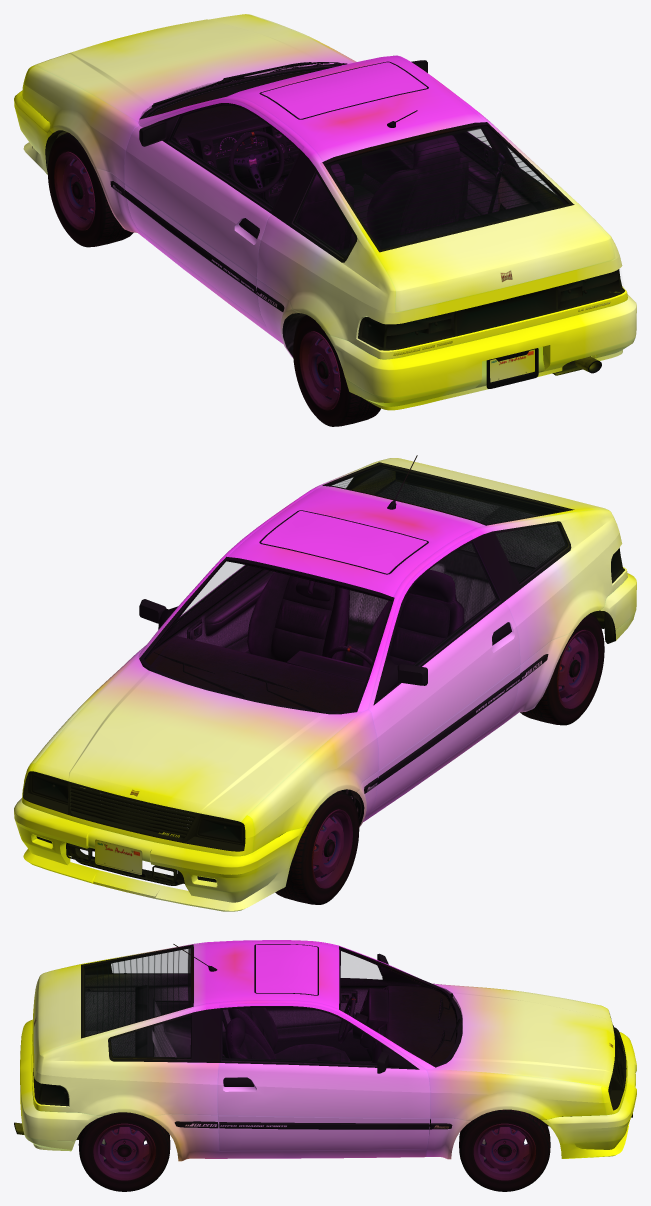
Rendered from blista2.glb.
The picture shows the model from 3 angles, top to bottom: view 1: azimuth 30°, elevation 25°; view 2: azimuth 150°, elevation 25°; view 3: azimuth 270°, elevation 25°; orthographic projection. The views are drawn at different scales.
Visible parts, largest first — view 1: bodyshell, windscreen_r, door_dside_f, boot, bonnet, bumper_r, chassis, misc_b, window_lf, wing_lf, wheel_lf, wheel_lr (+5 smaller); view 2: bodyshell, bonnet, door_dside_f, chassis, bumper_f, misc_b, extra_2, wing_lf, window_lf, wheel_lf, door_pside_f, windscreen_r (+5 smaller); view 3: bodyshell, door_pside_f, bonnet, chassis, wing_rf, window_rf, windscreen_r, wheel_rf, wheel_rr, extra_2, boot, door_dside_f (+6 smaller).
Boxes of the visible parts, x1,y1,x2,y2 form: bodyshell: (22,55,627,359); windscreen_r: (326,125,567,249); door_dside_f: (124,100,303,325); boot: (320,122,615,311); bonnet: (33,14,353,121); bumper_r: (325,294,636,410); chassis: (144,62,610,357); misc_b: (296,135,468,250); window_lf: (168,105,298,209); wing_lf: (23,66,144,238); wheel_lf: (47,132,133,247); wheel_lr: (293,315,380,426); bodyshell: (22,455,627,856); bonnet: (32,657,360,821); door_dside_f: (368,536,520,810); chassis: (66,467,605,885); bumper_f: (14,798,306,911); misc_b: (247,569,464,667); extra_2: (261,481,565,573); wing_lf: (247,709,378,852); window_lf: (388,542,501,665); wheel_lf: (275,791,359,904); door_pside_f: (135,537,274,654); windscreen_r: (329,465,564,524); bodyshell: (31,940,627,1161); door_pside_f: (217,1003,430,1150); bonnet: (433,984,614,1088); chassis: (32,948,624,1126); wing_rf: (426,1069,606,1159); window_rf: (222,1008,380,1064); windscreen_r: (84,946,190,1036); wheel_rf: (459,1109,550,1191); wheel_rr: (78,1112,170,1191); extra_2: (85,944,317,1056); boot: (33,944,193,1070); door_dside_f: (222,950,421,1061).
Size of the model in its own units: 1.86 by 1.61 by 4.53.
18 materials, 18 textured.
